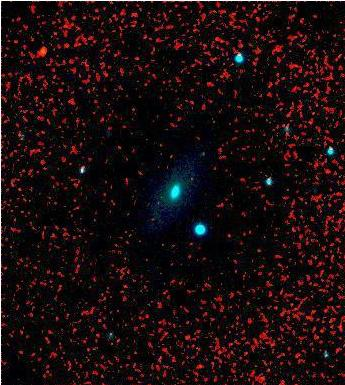star: (28, 38, 58, 68)
